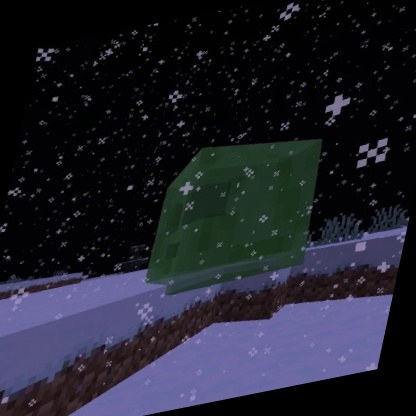slime: (135, 117, 339, 305)
